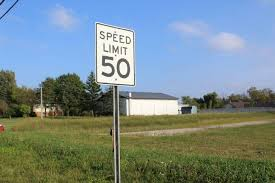speedLimit50: (94, 21, 138, 88)
